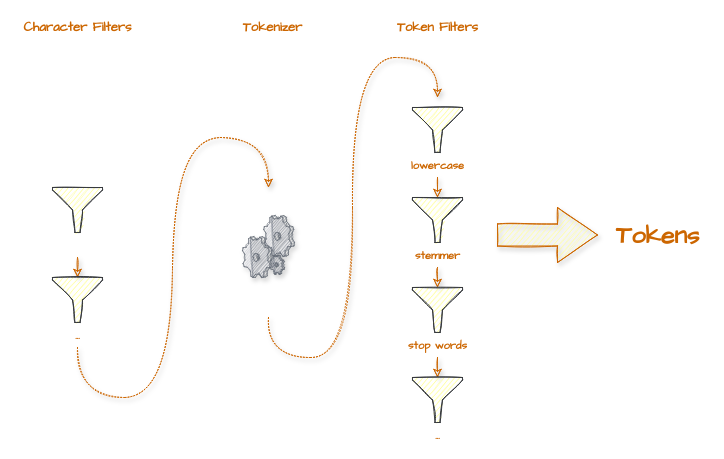
This 724x459 diagram has some shape labels left out. The centre of each missing label's shape, as x and y in pixels:
html: point 77,209
simple tokenizer: point 269,247
